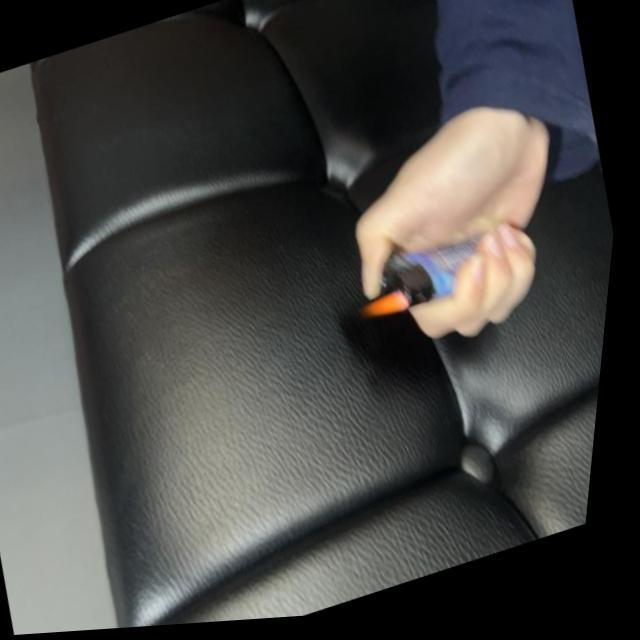Fire: (364, 294, 416, 331)
